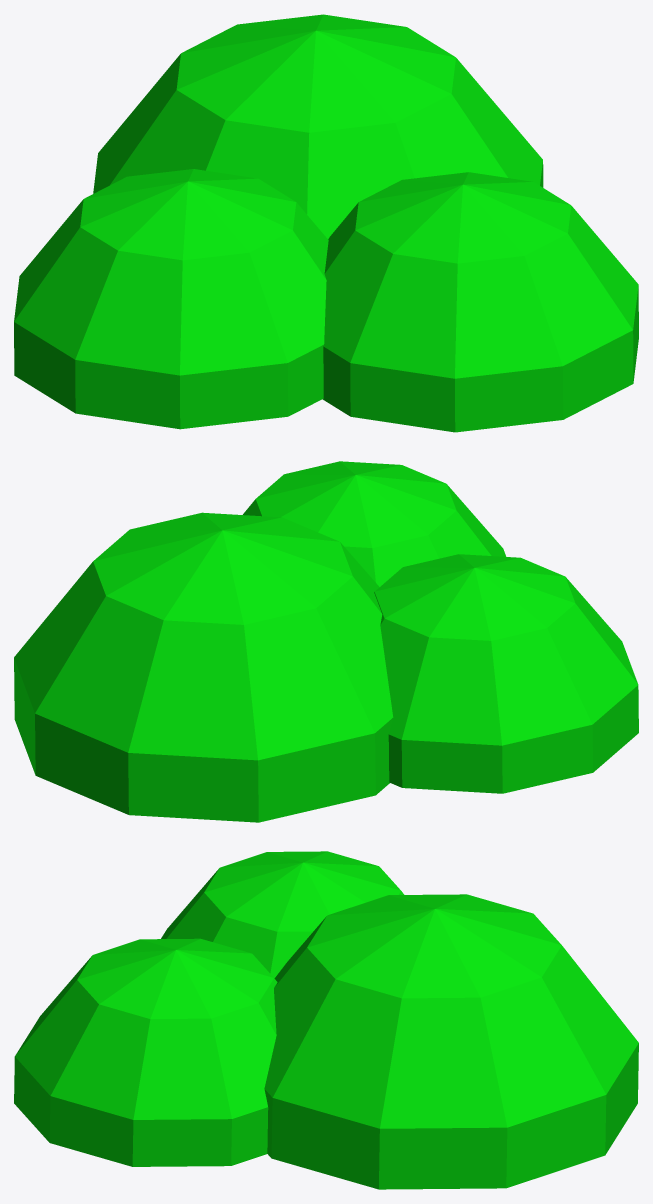
Rendered from Arbusto_1.fbx.
The picture shows the model from 3 angles, top to bottom: view 1: azimuth 30°, elevation 25°; view 2: azimuth 150°, elevation 25°; view 3: azimuth 270°, elevation 25°; orthographic projection. The views are drawn at different scales.
Visible parts, largest first — view 1: Sphere.012; view 2: Sphere.012; view 3: Sphere.012.
Boxes of the visible parts, x1=… form: Sphere.012: x1=14, y1=14, x2=638, y2=432; Sphere.012: x1=14, y1=461, x2=638, y2=822; Sphere.012: x1=14, y1=851, x2=638, y2=1189.
Size of the model in its own units: 0.894 by 0.3515 by 0.9966.
